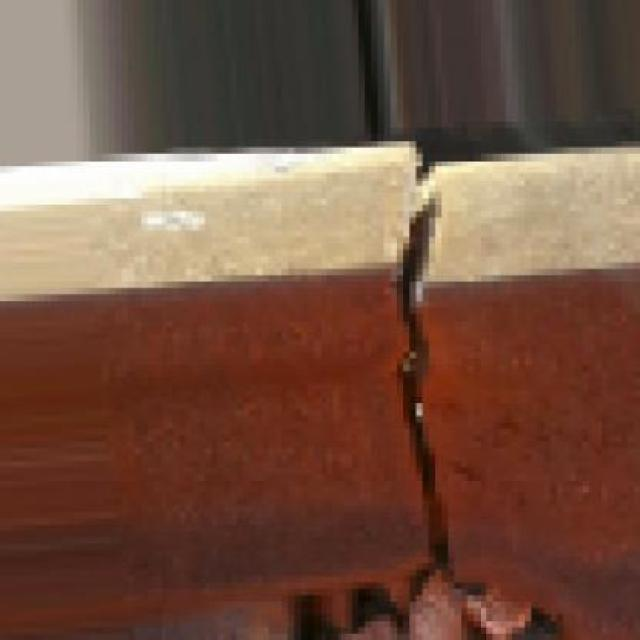defective: (192, 57, 594, 640)
